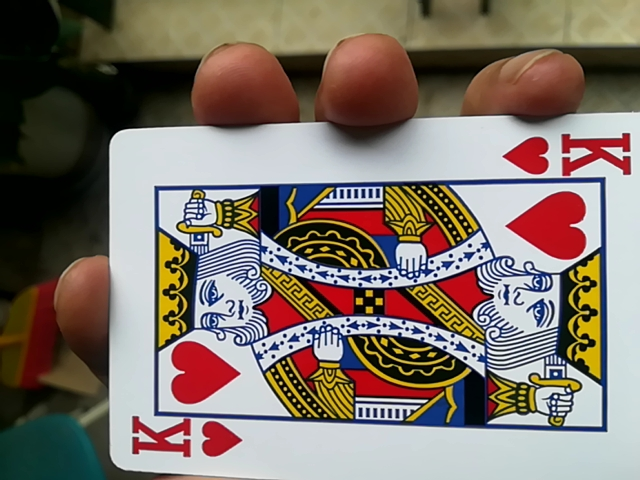hx k: (105, 124, 635, 480)
